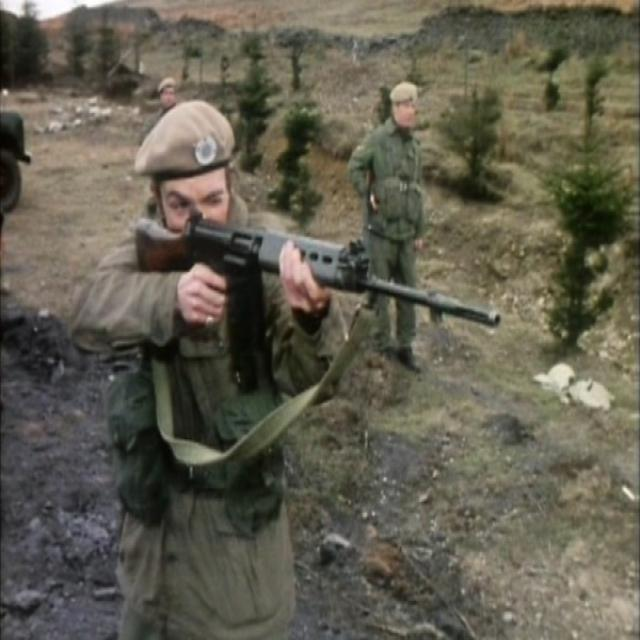rifle: (130, 212, 506, 404)
